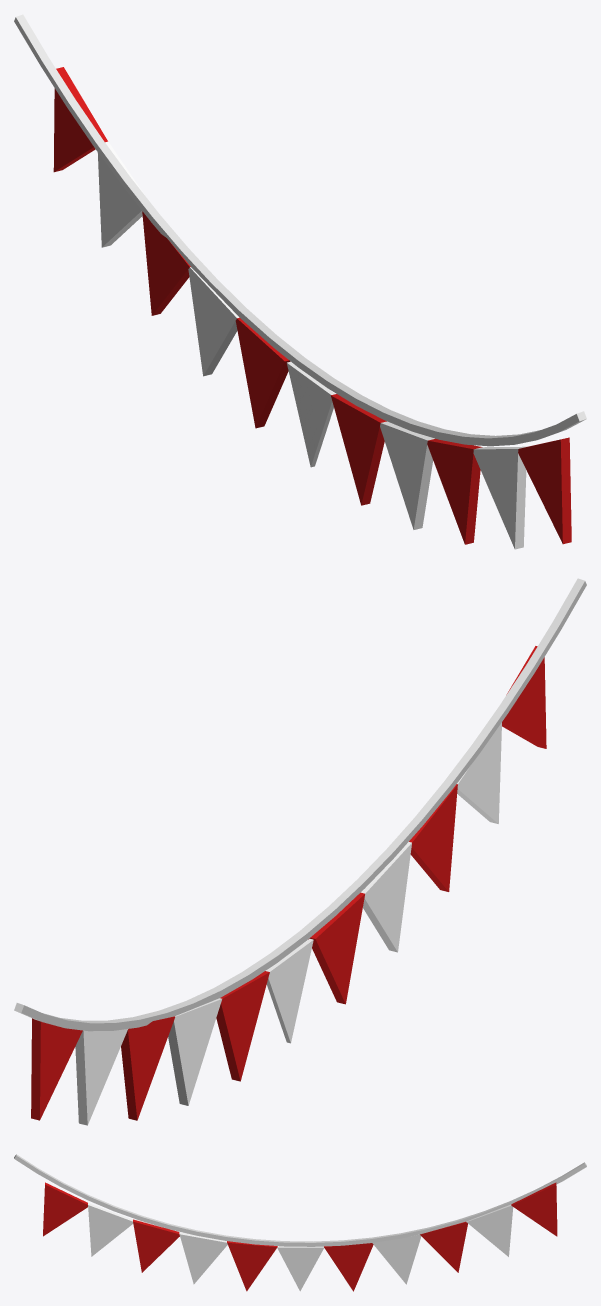
The model's file is deco_RE.FBX.
3 renders of one model, top to bottom at view 1: azimuth 30°, elevation 25°; view 2: azimuth 150°, elevation 25°; view 3: azimuth 270°, elevation 25°, orthographic. The views are drawn at different scales.
Visible parts, largest first — view 1: Line006, Arc001; view 2: Line006, Arc001; view 3: Line006, Arc001.
Boxes of the visible parts, x1=… form: Line006: x1=53, y1=67, x2=571, y2=549; Arc001: x1=14, y1=14, x2=586, y2=446; Line006: x1=31, y1=646, x2=546, y2=1125; Arc001: x1=14, y1=578, x2=586, y2=1031; Line006: x1=43, y1=1182, x2=557, y2=1291; Arc001: x1=14, y1=1154, x2=586, y2=1246.
Size of the model in its own units: 5.49 by 59.56 by 232.
